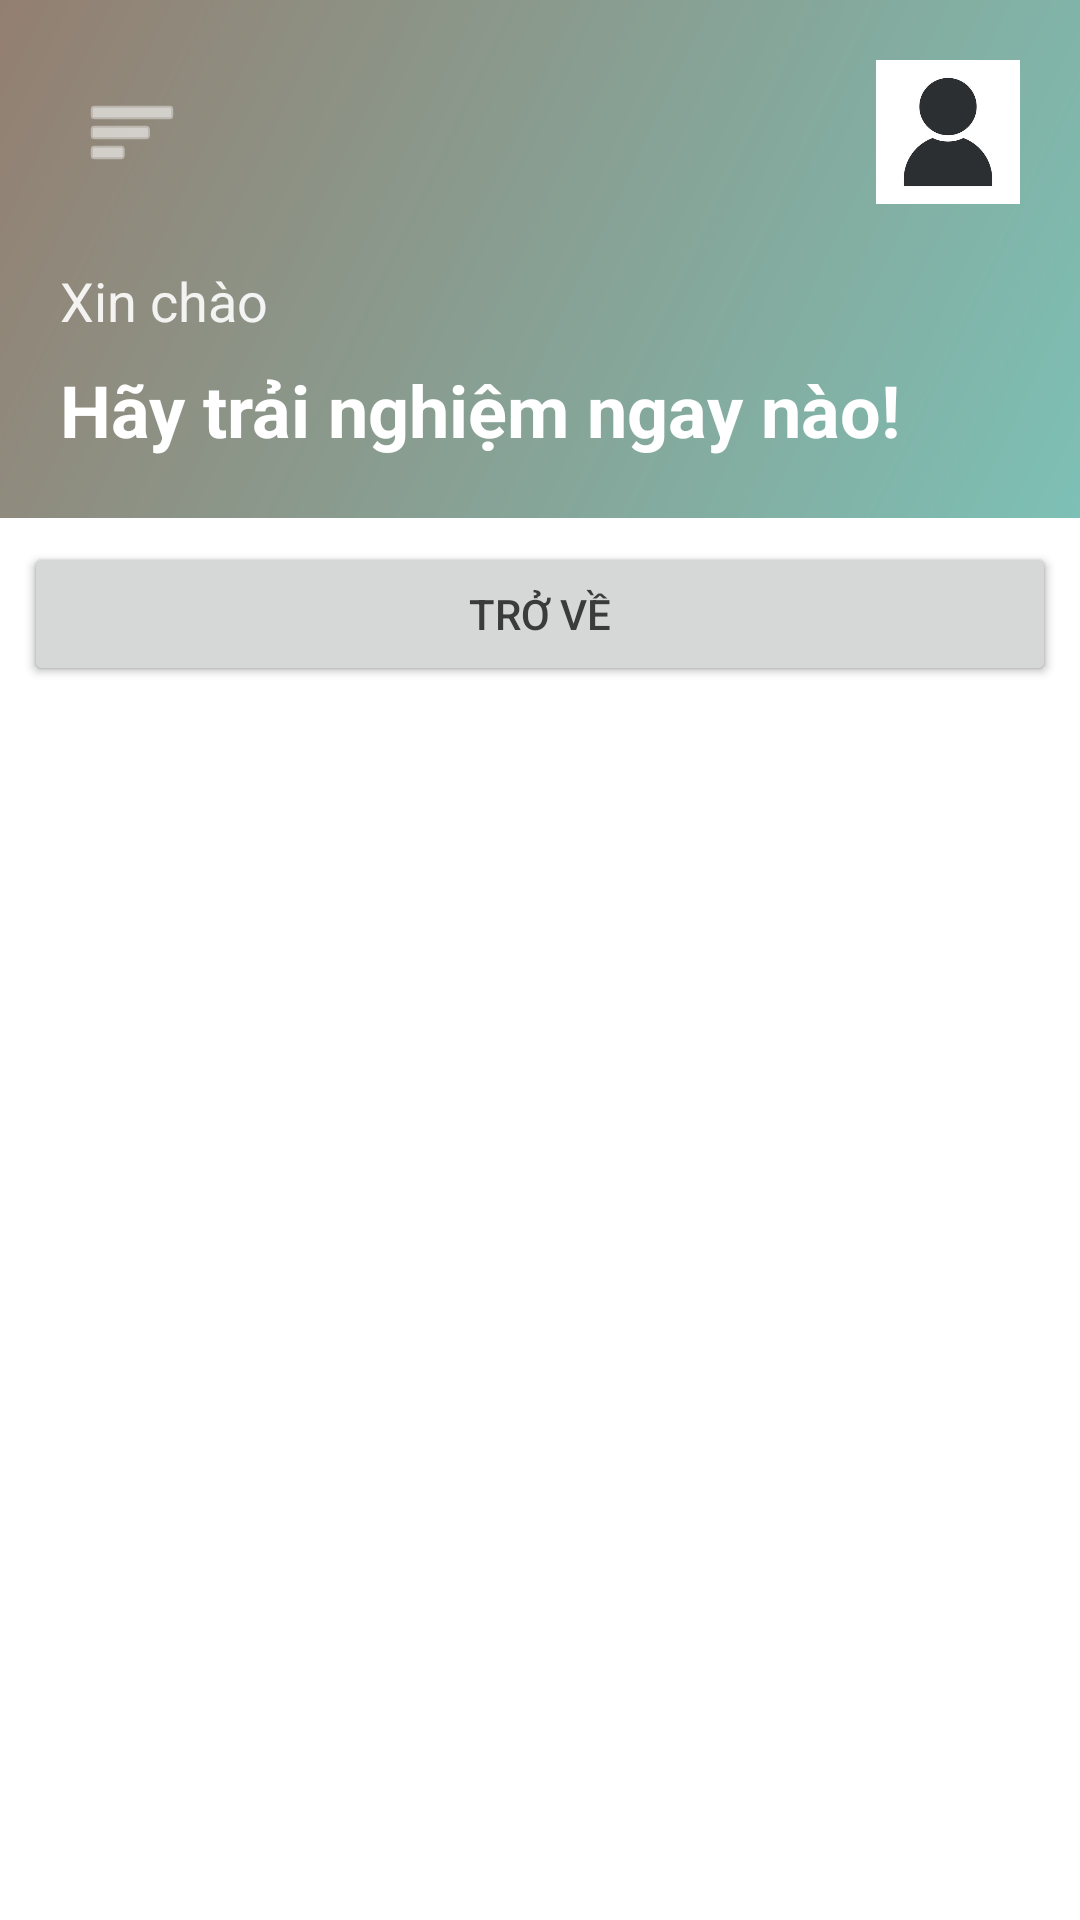

Screen size 1080 x 1920. Icon name, then its box in pixels as Rect(x1, y1, x2, y2):
sort by size: Rect(91, 106, 173, 159)
user: Rect(876, 60, 1020, 204)
